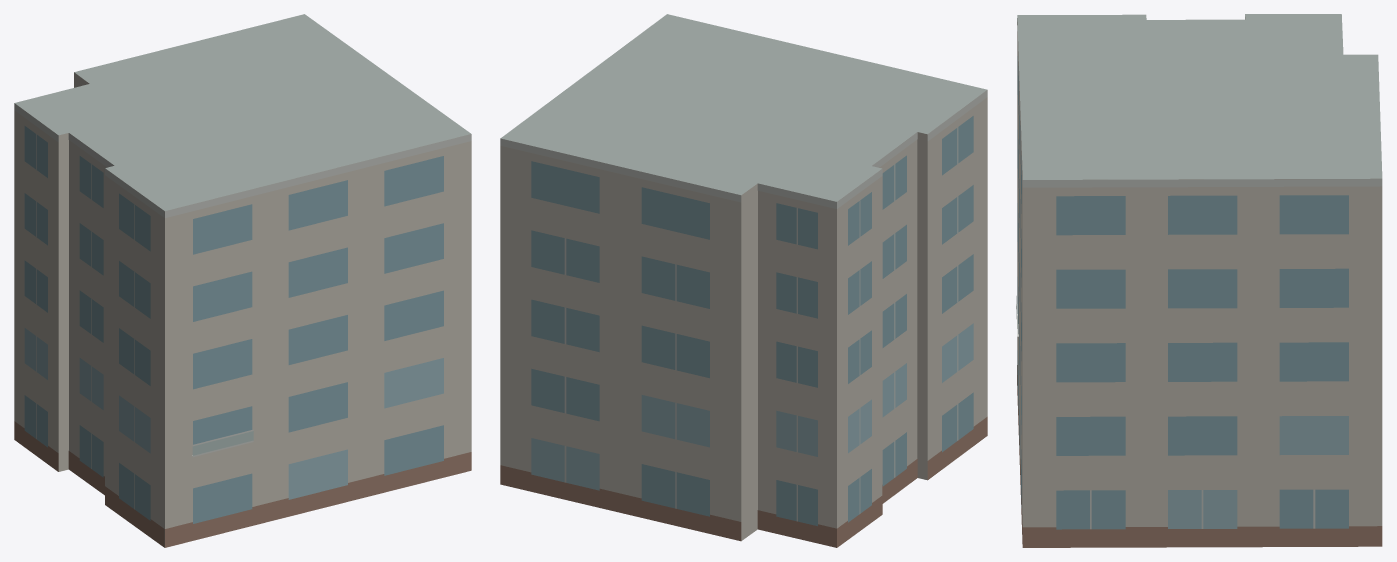
The model's file is survey-upis-33024525.glb.
3 views of the same model, side by side, from view 1: azimuth 30°, elevation 25°; view 2: azimuth 150°, elevation 25°; view 3: azimuth 270°, elevation 25° (orthographic). The views are drawn at different scales.
Parts seen in each view (by area): view 1: survey-upis-33024525.tmp; view 2: survey-upis-33024525.tmp; view 3: survey-upis-33024525.tmp.
Boxes of the visible parts, x1,y1,x2,y2 form: survey-upis-33024525.tmp: [14, 14, 471, 547]; survey-upis-33024525.tmp: [500, 14, 987, 547]; survey-upis-33024525.tmp: [1016, 14, 1382, 547].
Size of the model in its own units: 11.24 by 11.6 by 10.47.
